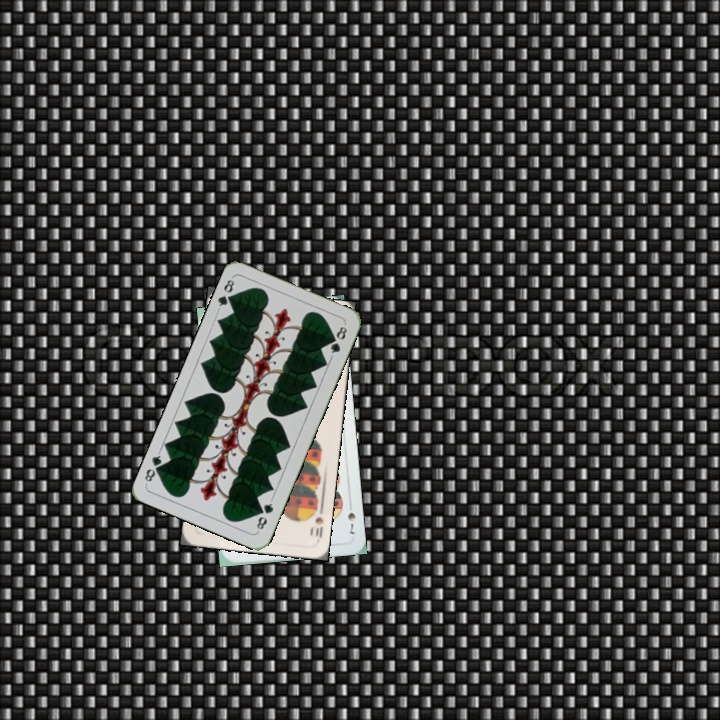G8: (252, 495, 276, 534), (214, 274, 238, 313)
S10: (308, 502, 326, 543)
S7: (343, 498, 358, 537)
